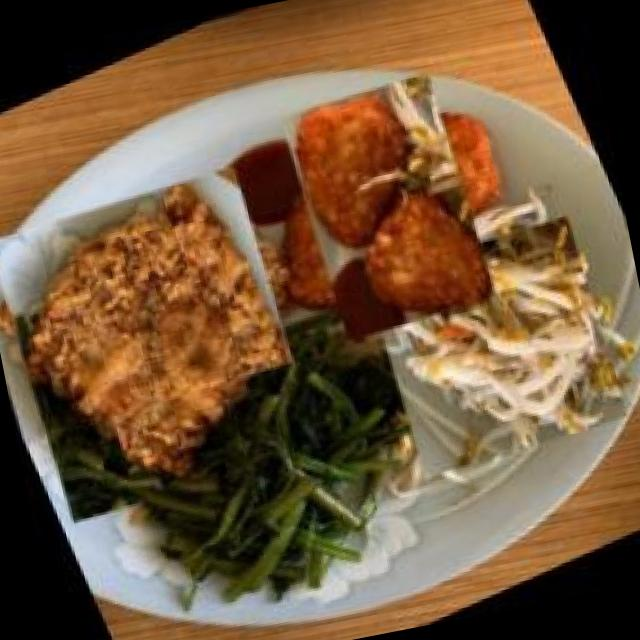fried_chicken: (0, 126, 368, 553)
mung_bean_sprouts: (328, 180, 640, 512)
triangle_hash_brown: (235, 52, 540, 358)
water_spinach: (75, 291, 482, 640)
